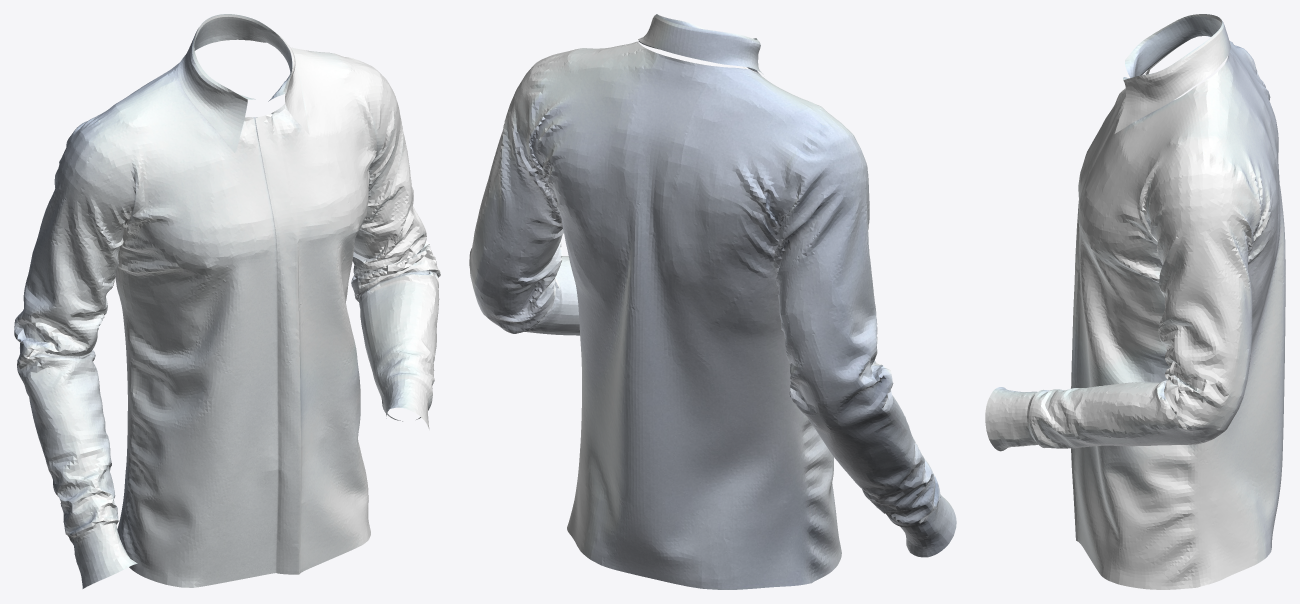
The model's file is fullshirt.glb.
The picture shows the model from 3 angles, left to right: view 1: azimuth 30°, elevation 25°; view 2: azimuth 150°, elevation 25°; view 3: azimuth 270°, elevation 25°; orthographic projection. The views are drawn at different scales.
Size of the model in its own units: 298 by 361 by 192.
1 material, 1 textured.
